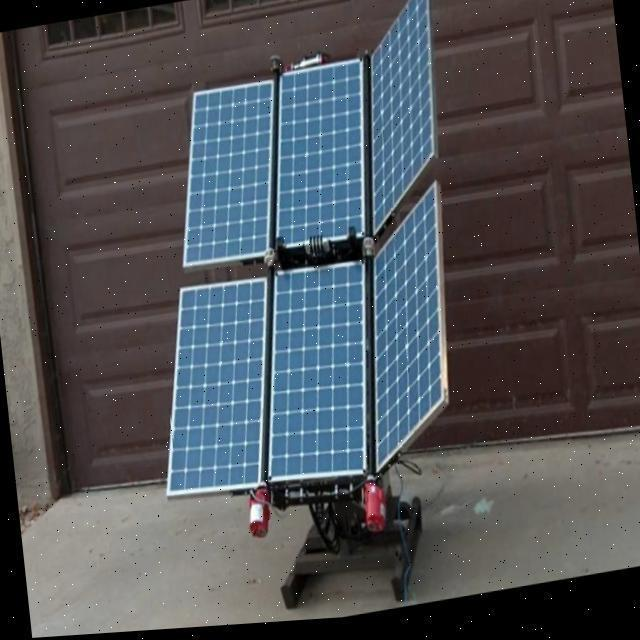Normal Solar Panel: (348, 187, 466, 479), (248, 264, 384, 496), (146, 280, 285, 504), (346, 0, 452, 240), (166, 84, 290, 272), (259, 63, 379, 253)
